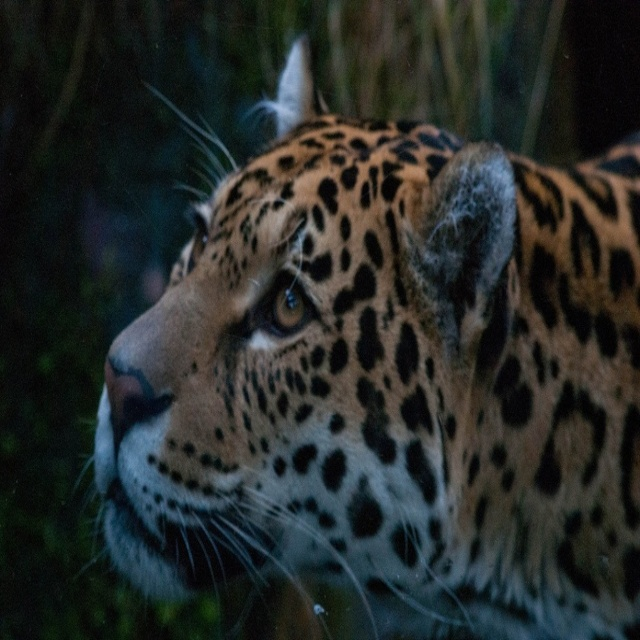Jaguar: (75, 33, 639, 639)
